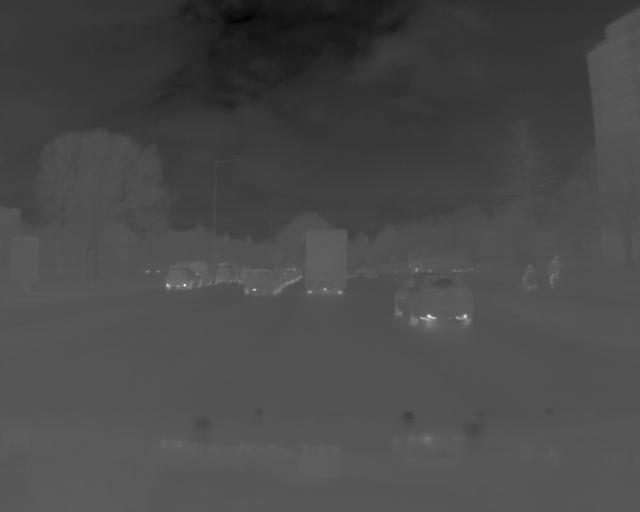car: (393, 273, 477, 332), (245, 267, 284, 299), (164, 267, 203, 290), (213, 261, 237, 285)
person: (545, 251, 563, 290), (520, 261, 538, 287)
